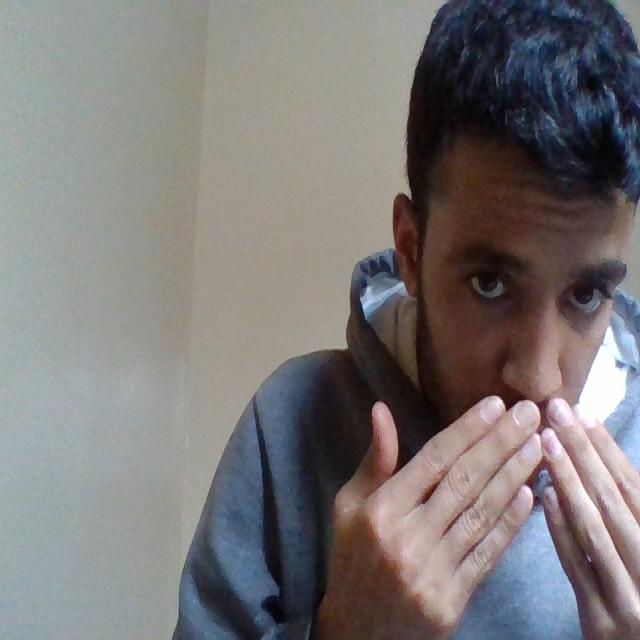Thanks: (320, 381, 639, 639)
